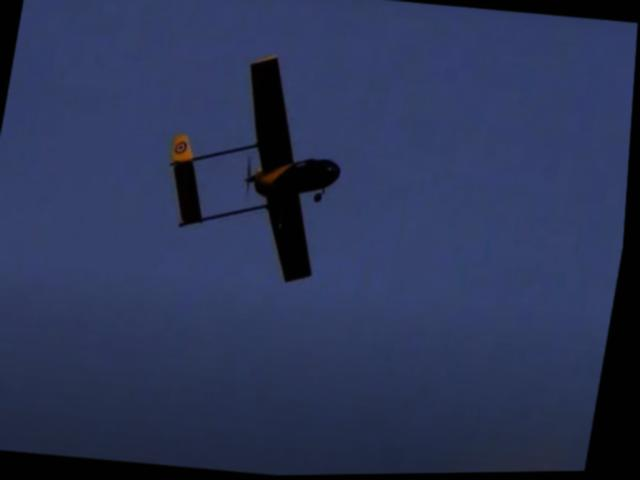iha: (146, 41, 364, 292)
